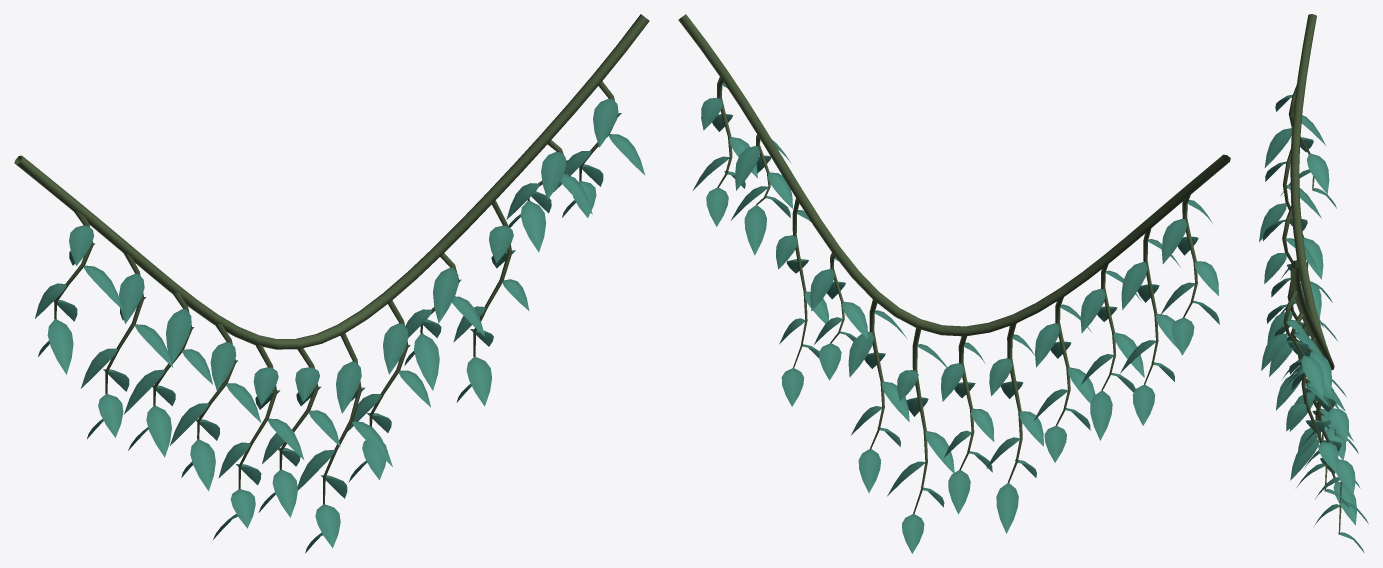
Rendered from Curtain Vine.glb.
3 renders of one model, left to right at view 1: azimuth 30°, elevation 25°; view 2: azimuth 150°, elevation 25°; view 3: azimuth 270°, elevation 25°, orthographic. The views are drawn at different scales.
Visible parts, largest first — view 1: Curtain Vine; view 2: Curtain Vine; view 3: Curtain Vine.
Boxes of the visible parts, bbox=[...] form: Curtain Vine: bbox=[14, 14, 649, 553]; Curtain Vine: bbox=[678, 14, 1230, 553]; Curtain Vine: bbox=[1259, 14, 1368, 552].
Bounding box in the file's own units: 6.06 × 4.63 × 1.12.
